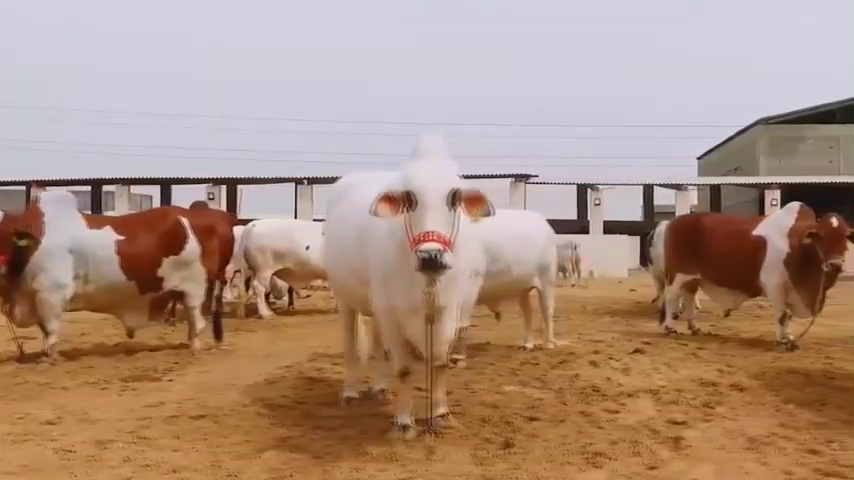bo: (1, 188, 235, 376), (320, 136, 464, 440), (666, 195, 848, 360), (458, 194, 568, 355), (238, 206, 327, 327), (637, 209, 669, 312)
